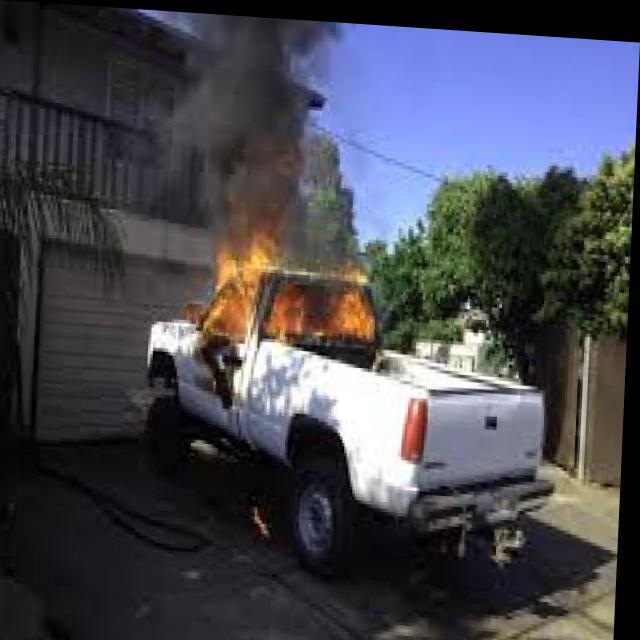fire: (183, 211, 393, 371)
